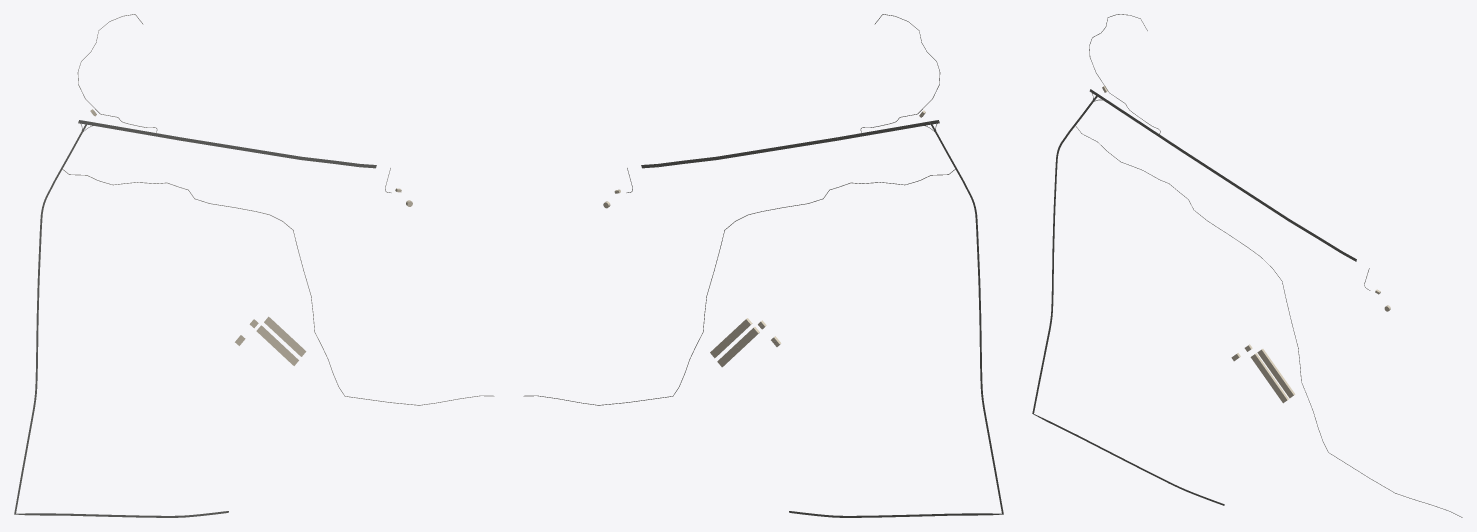
Rendered from historic-palestine-06_16_3476_3101.glb.
3 views of the same model, side by side, from view 1: azimuth 30°, elevation 25°; view 2: azimuth 150°, elevation 25°; view 3: azimuth 330°, elevation 25° (orthographic). The views are drawn at different scales.
Visible parts, largest first — view 1: Road .007, Road 222.002, Road .008; view 2: Road .007, Road 222.002, Road .008; view 3: Road .007, Road 222.002, Road .008.
Part boxes in pixels (x1=…): Road .007: x1=14, y1=133, x2=228, y2=517; Road 222.002: x1=96, y1=123, x2=360, y2=167; Road .008: x1=62, y1=169, x2=494, y2=405; Road .007: x1=789, y1=133, x2=1003, y2=517; Road 222.002: x1=657, y1=123, x2=921, y2=167; Road .008: x1=523, y1=169, x2=955, y2=405; Road .007: x1=1032, y1=101, x2=1224, y2=505; Road 222.002: x1=1106, y1=100, x2=1342, y2=253; Road .008: x1=1076, y1=126, x2=1462, y2=517.
Bounding box in the file's own units: 1248 × 1297 × 8.7.
